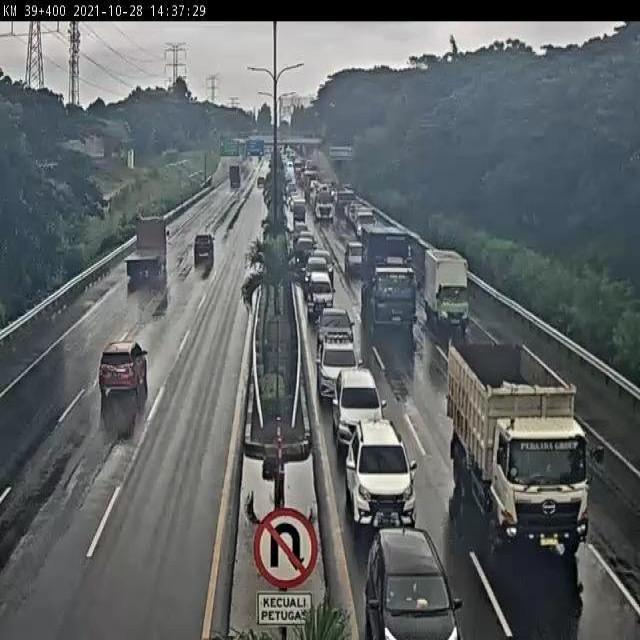car: (359, 520, 453, 640), (346, 423, 412, 528), (333, 367, 384, 452), (98, 340, 149, 401), (316, 335, 362, 397), (317, 312, 355, 359), (304, 271, 333, 319), (190, 236, 216, 265)
truck: (445, 340, 599, 559), (361, 226, 422, 342), (425, 248, 469, 331), (126, 216, 167, 284)
